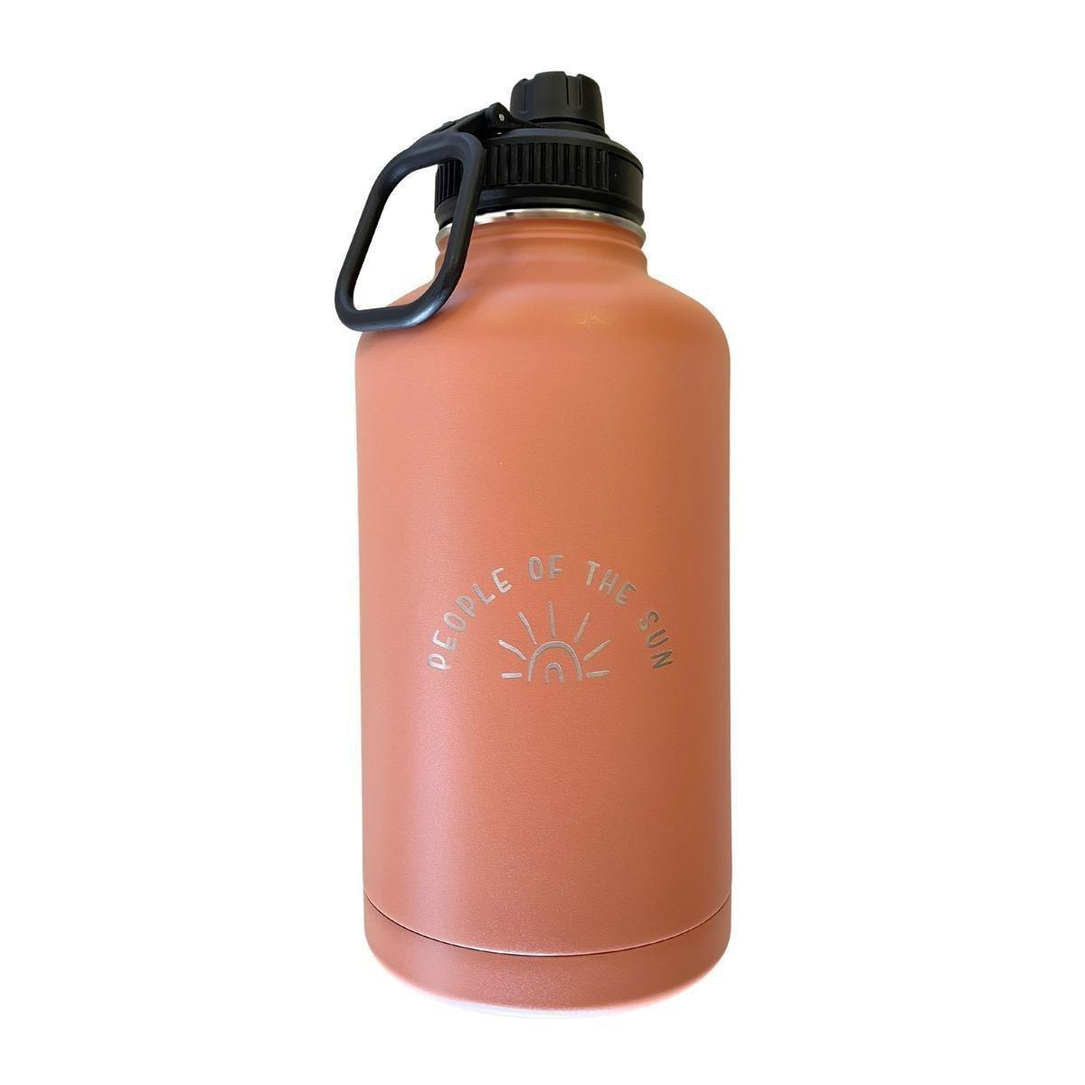gym bottle: (334, 71, 739, 1011)
